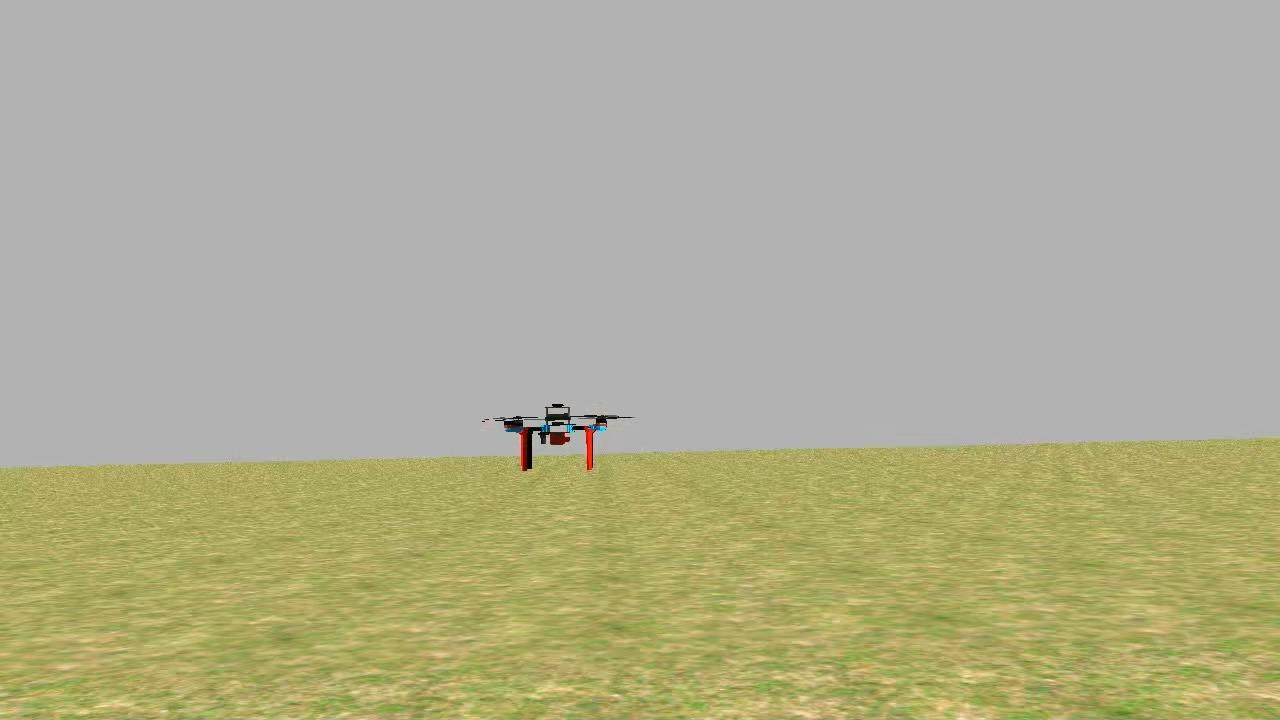UAV: (504, 396, 614, 468)
